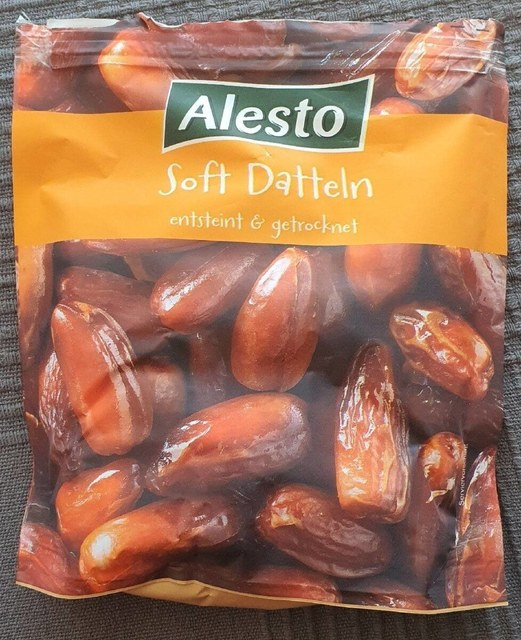Datteln: (26, 32, 495, 608)
